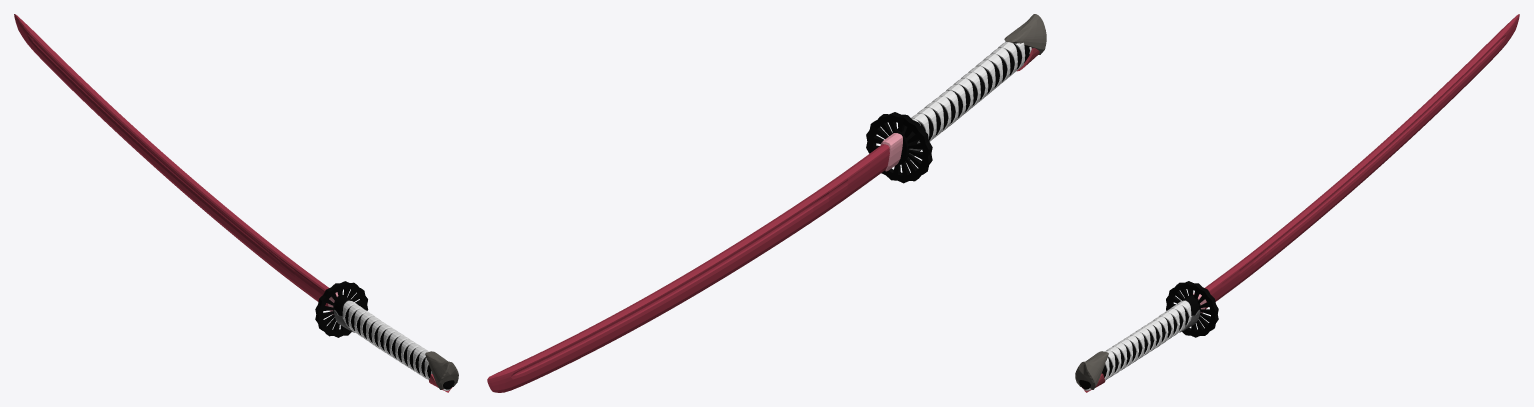
File: katana.fbx
The picture shows the model from 3 angles, left to right: view 1: azimuth 30°, elevation 25°; view 2: azimuth 150°, elevation 25°; view 3: azimuth 330°, elevation 25°; orthographic projection. The views are drawn at different scales.
Visible parts, largest first — view 1: KatanaBlade, KatanaTsuba, Tsuka, Cylinder.020; view 2: KatanaBlade, KatanaTsuba, Tsuka, Cylinder.020, KatanaHabaki; view 3: KatanaBlade, KatanaTsuba, Tsuka, Cylinder.020.
Part boxes in pixels (box(x1,y1,x2,y2)): KatanaBlade: box(14, 14, 328, 306); KatanaTsuba: box(315, 281, 368, 337); Tsuka: box(341, 305, 454, 389); Cylinder.020: box(425, 351, 458, 389); KatanaBlade: box(487, 144, 889, 392); KatanaTsuba: box(866, 112, 932, 183); Tsuka: box(917, 43, 1032, 142); Cylinder.020: box(1004, 14, 1046, 54); KatanaHabaki: box(880, 133, 902, 171); KatanaBlade: box(1205, 14, 1519, 309); KatanaTsuba: box(1166, 281, 1218, 337); Tsuka: box(1079, 306, 1192, 389); Cylinder.020: box(1075, 351, 1108, 389).
Bounding box in the file's own units: 125 × 197 × 1898.
